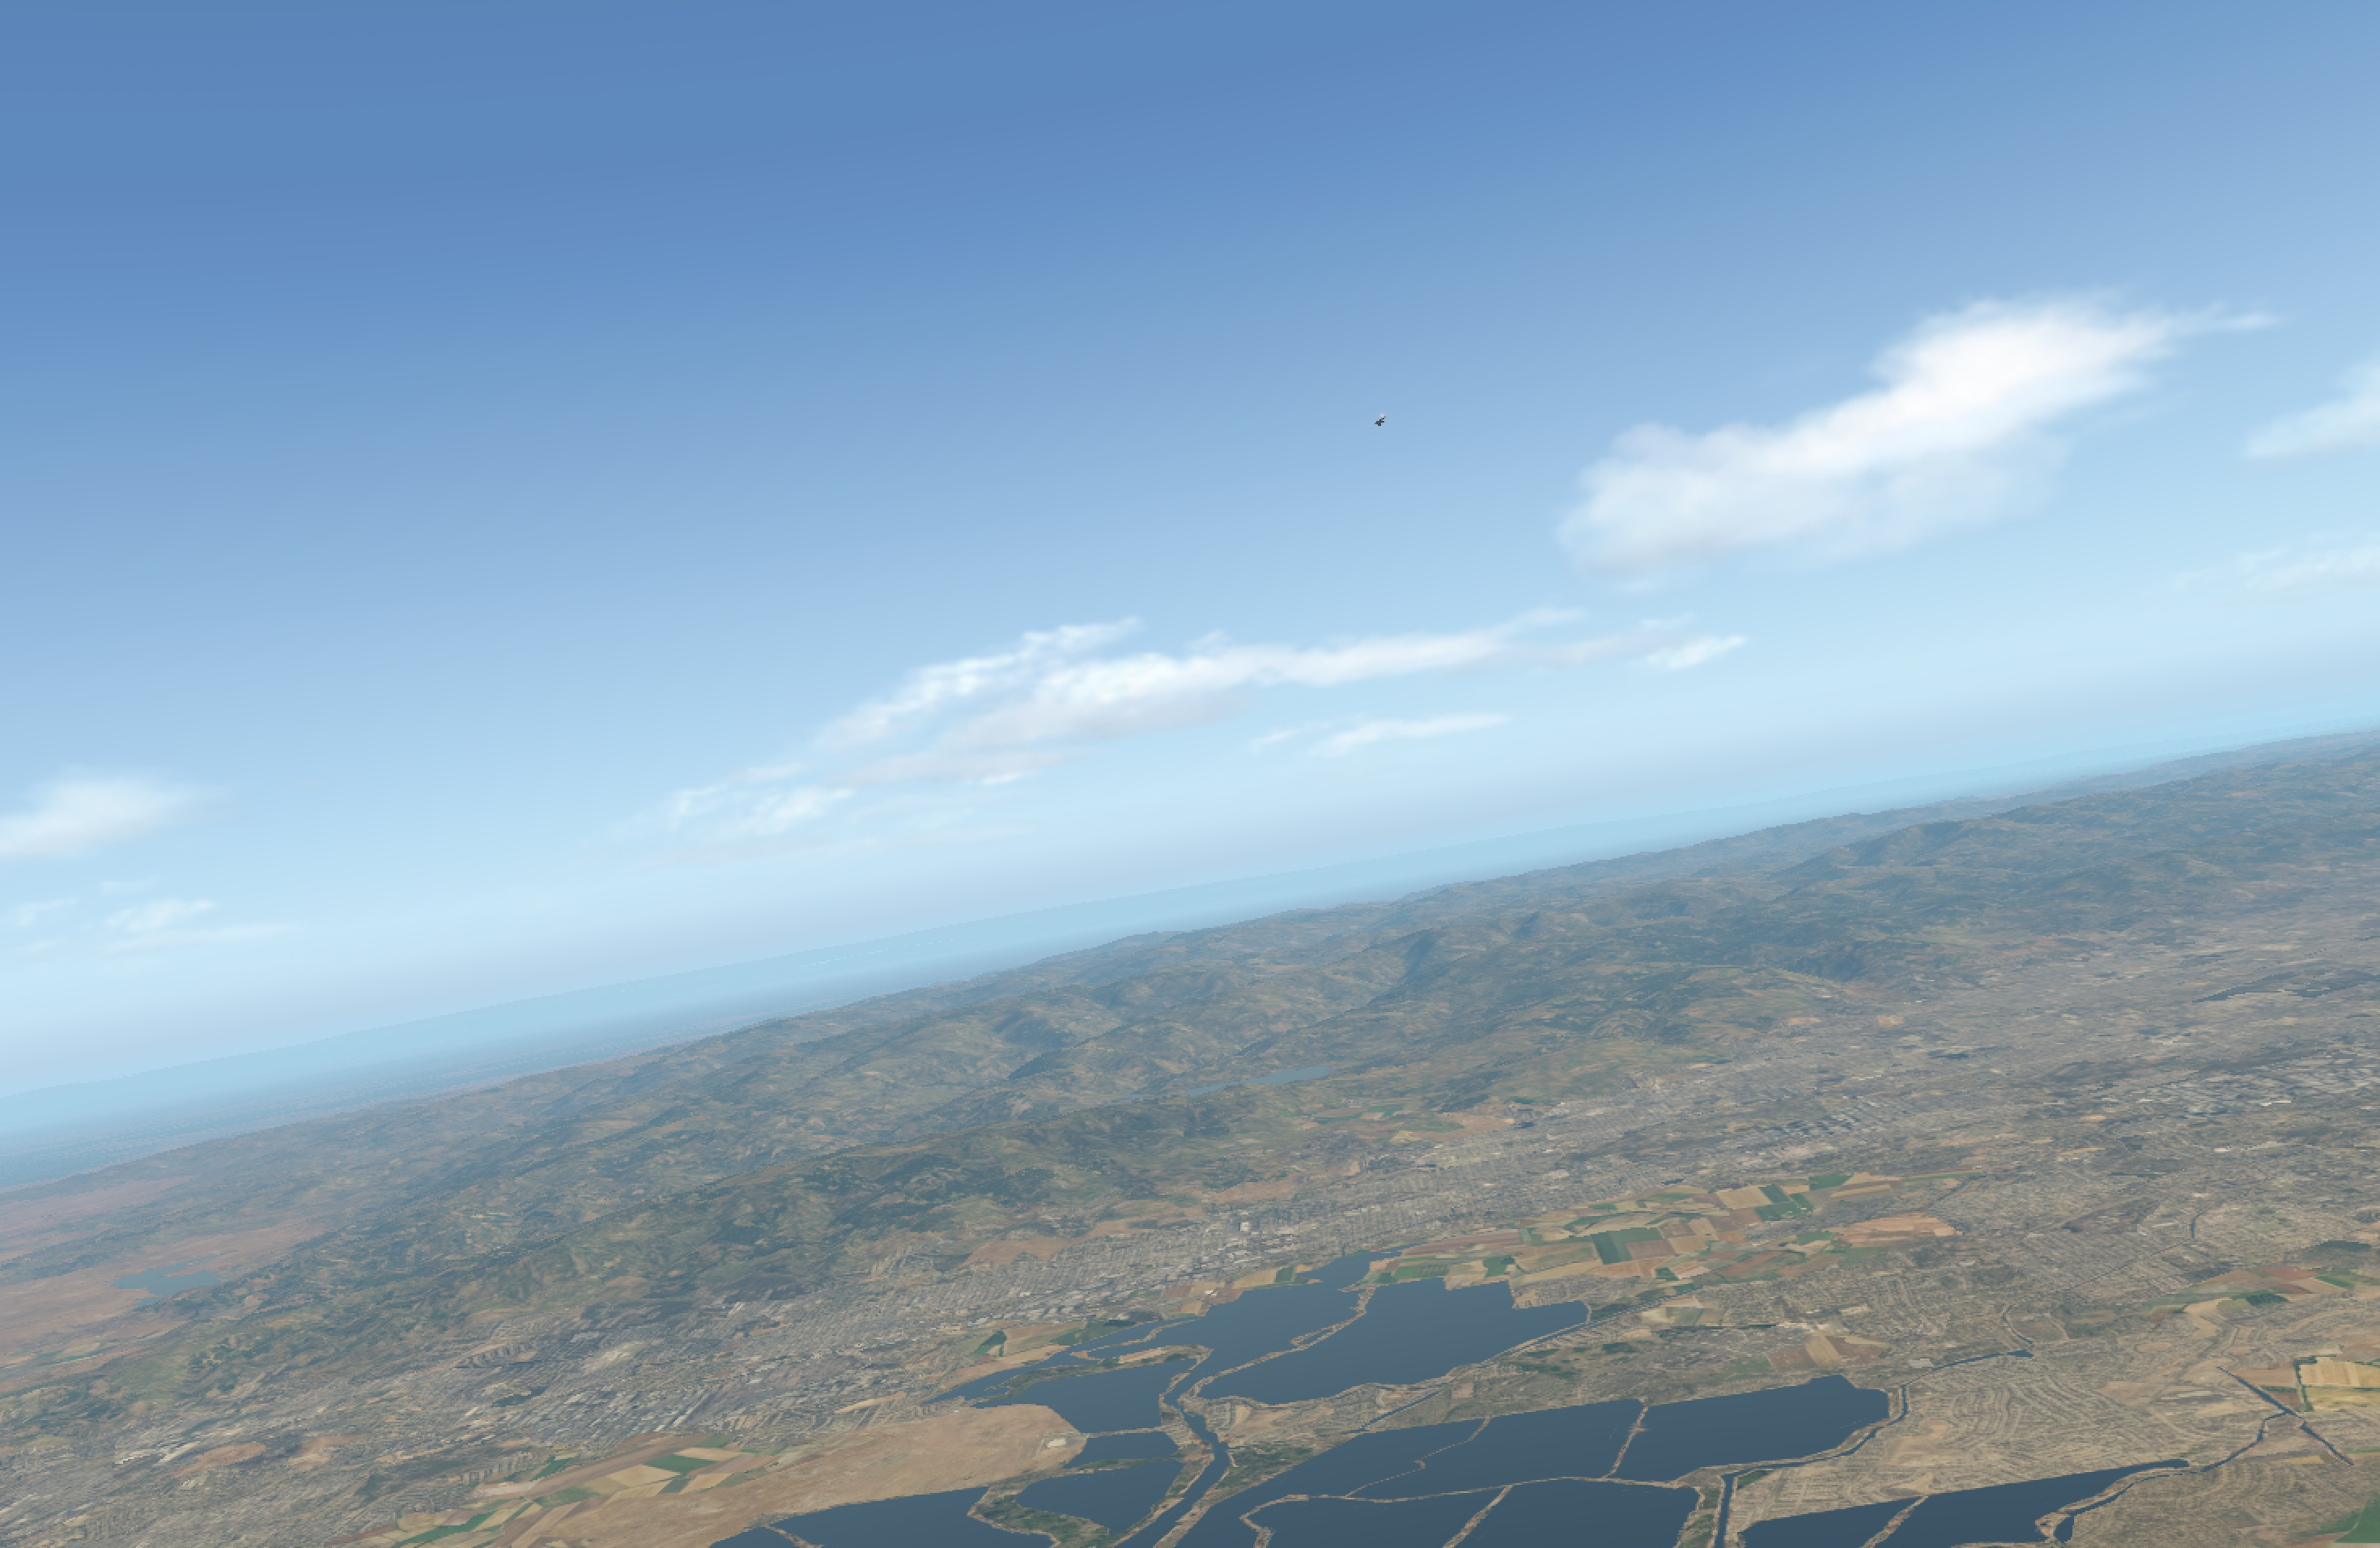aircraft: (1370, 418, 1389, 425)
